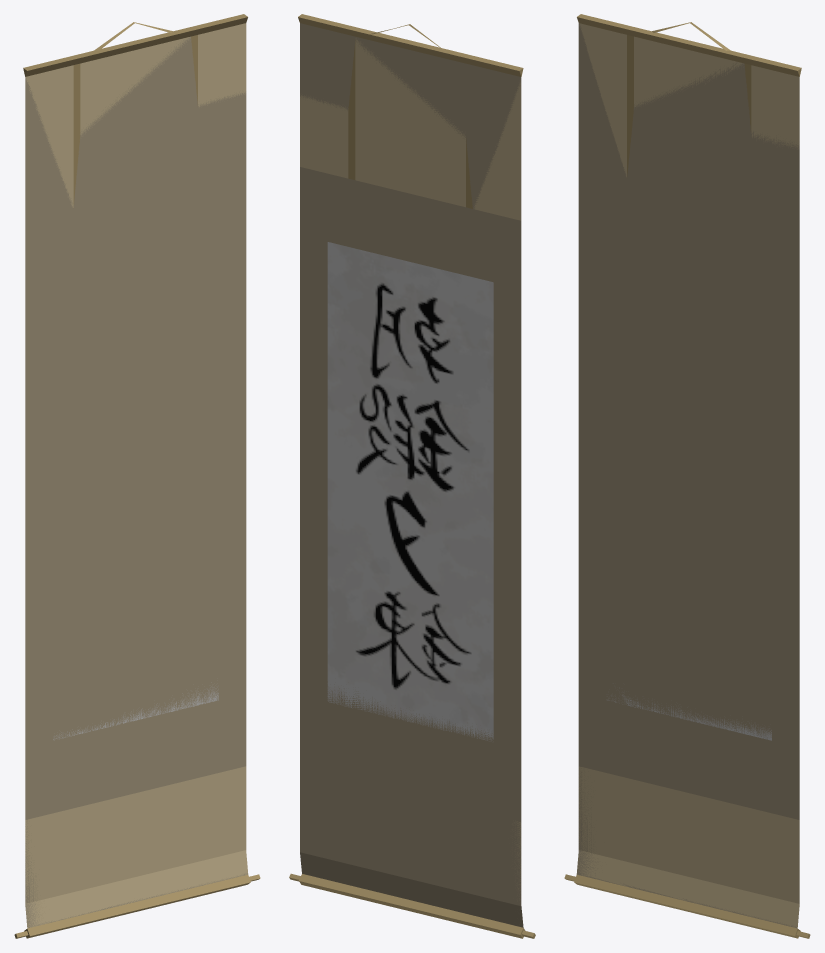
File: Prop_Dojo_HangingScroll_D.fbx
3 renders of one model, left to right at view 1: azimuth 30°, elevation 25°; view 2: azimuth 150°, elevation 25°; view 3: azimuth 330°, elevation 25°, orthographic.
Parts seen in each view (by area): view 1: Prop_Dojo_HangingScroll_D; view 2: Prop_Dojo_HangingScroll_D; view 3: Prop_Dojo_HangingScroll_D.
Boxes of the visible parts, x1,y1,x2,y2 form: Prop_Dojo_HangingScroll_D: (14, 14, 260, 938); Prop_Dojo_HangingScroll_D: (289, 14, 535, 938); Prop_Dojo_HangingScroll_D: (564, 14, 810, 938).
Bounding box in the file's own units: 67.32 × 235 × 3.26.
